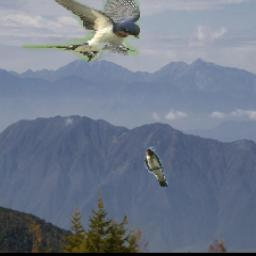Swallow: (22, 0, 140, 62), (146, 146, 170, 187)
